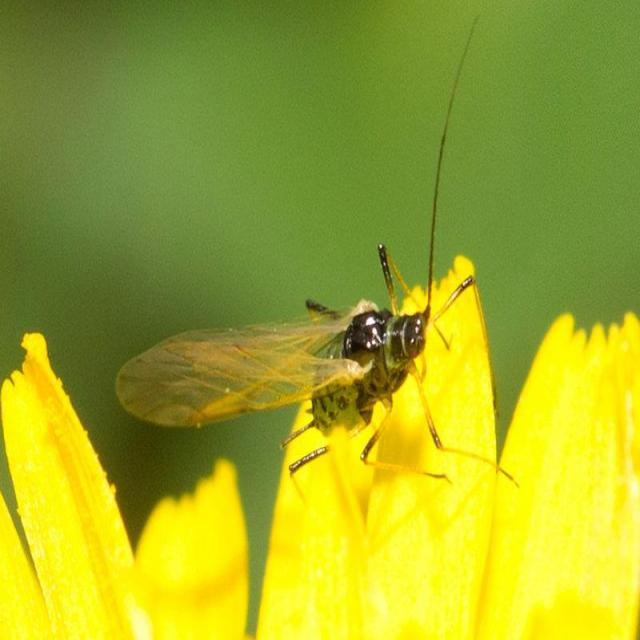Aphids: (100, 221, 537, 503)
